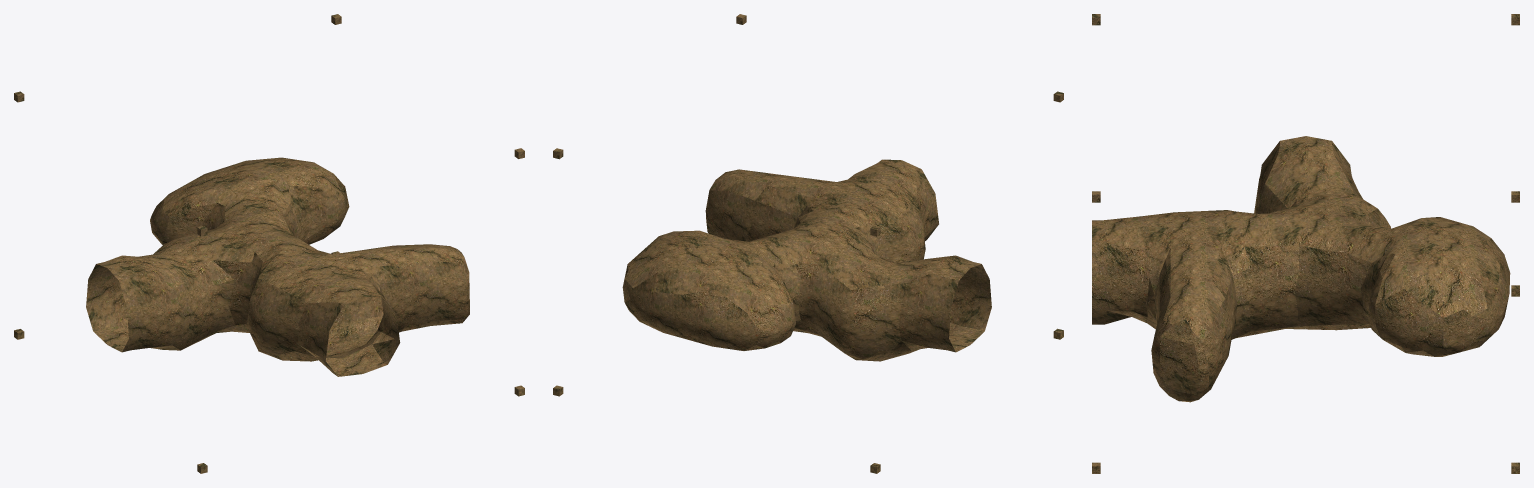
The model's file is lba_2c.glb.
3 renders of one model, left to right at view 1: azimuth 30°, elevation 25°; view 2: azimuth 150°, elevation 25°; view 3: azimuth 270°, elevation 25°, orthographic. The views are drawn at different scales.
Parts seen in each view (by area): view 1: lba_2c; view 2: lba_2c; view 3: lba_2c.
Part boxes in pixels (box(x1,y1,x2,y2)): lba_2c: box(14, 14, 524, 473); lba_2c: box(553, 14, 1063, 473); lba_2c: box(1092, 14, 1519, 473).
Size of the model in its own units: 15 by 10.8 by 15.
1 material, 1 textured.
